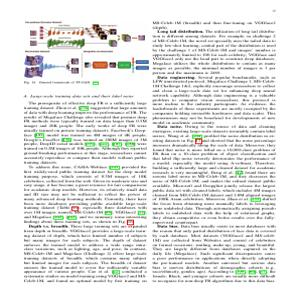diagram: (20, 22, 151, 89)
text: (152, 18, 278, 288), (20, 93, 149, 287)
